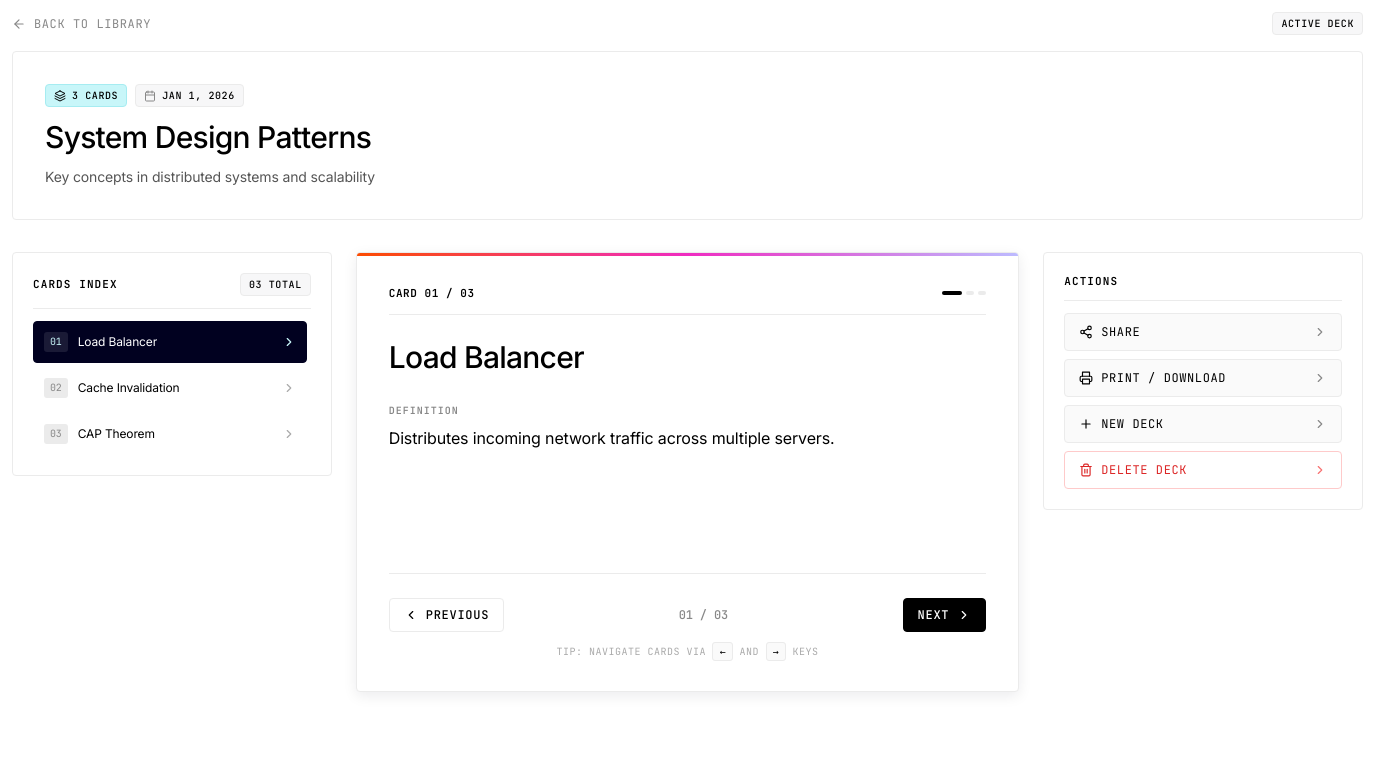
Scenario: FlashcardDetails component › selects active term by clicking in the sidebar index
Click the button "03 CAP Theorem" at (116, 434), box [33,413,307,455]
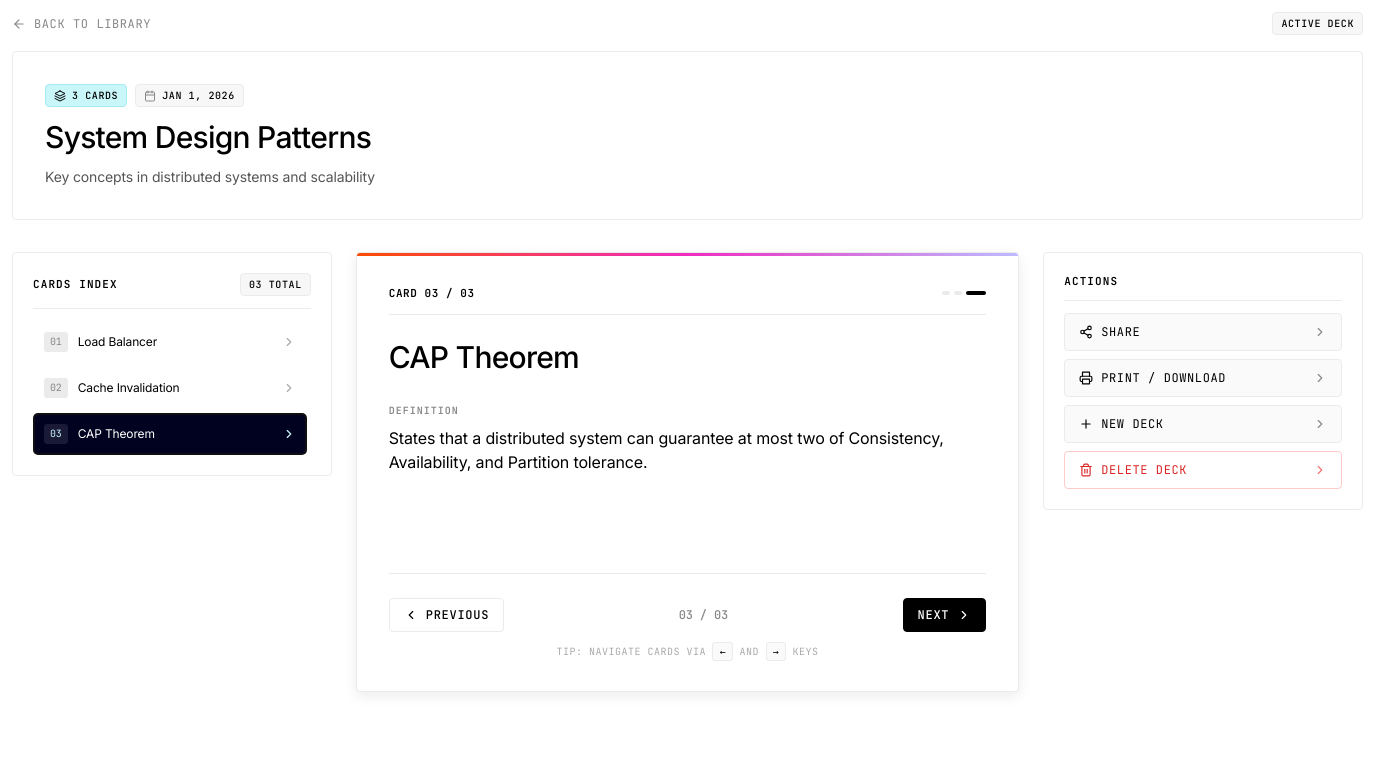
Result: the text "CARD 03 / 03" is shown at [389,285,475,302]
Result: the heading "CAP Theorem" is shown at [389,338,579,374]
